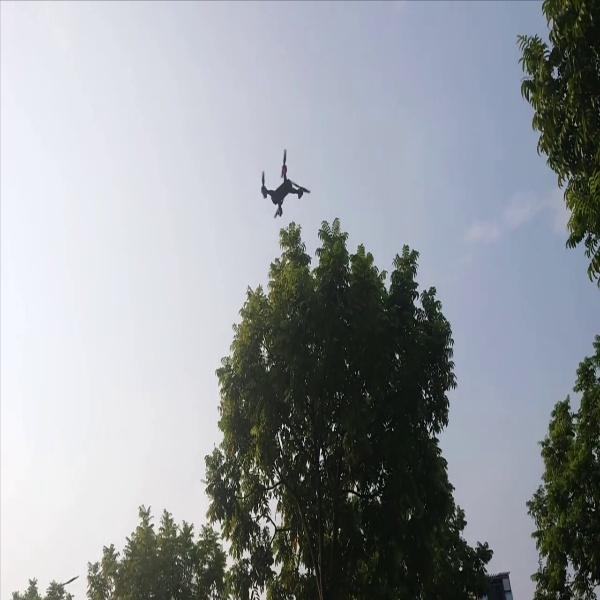drone: (255, 144, 316, 222)
